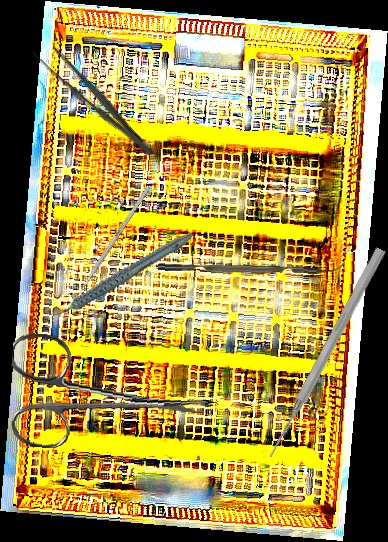Chopper: (158, 254, 344, 277)
Dressing Forceps: (29, 38, 161, 163)
Handpiece: (35, 231, 204, 319)
Iris Scissors: (4, 331, 210, 462)
Pusher: (263, 245, 388, 461), (71, 186, 150, 305)
